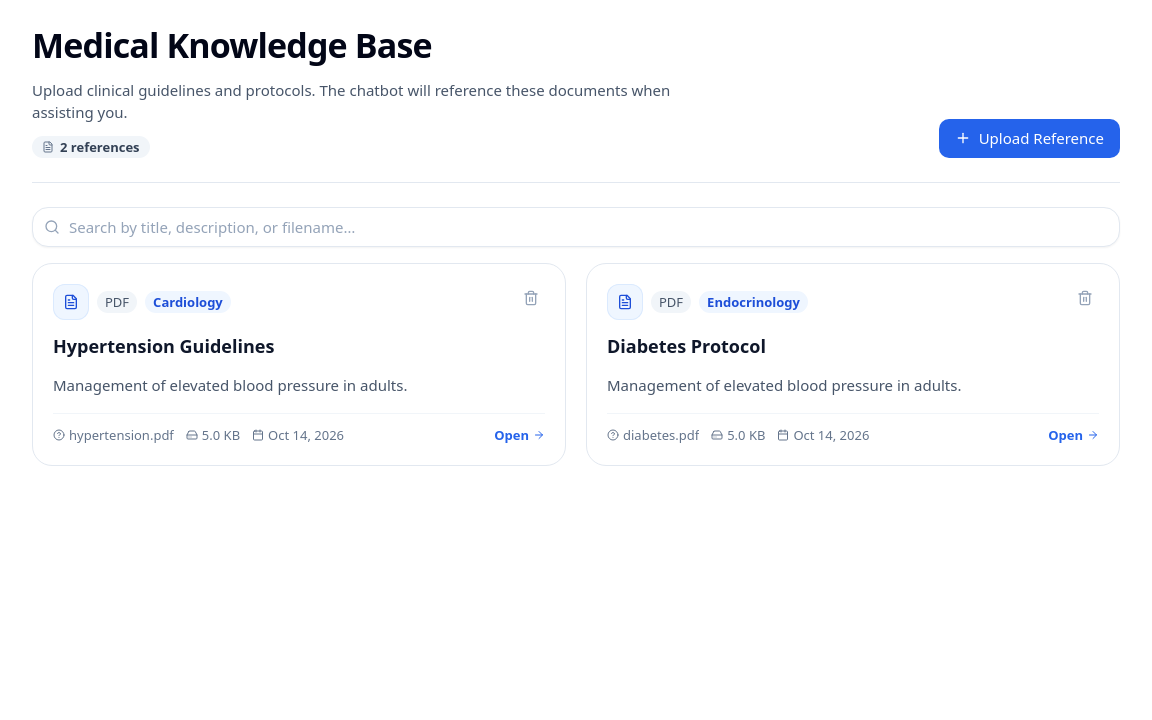
Scenario: KnowledgeBasePage › filters references by search and can clear the query
Expected: the heading "Hypertension Guidelines" is shown, [53,334,274,358]
Type "diabetes" into the search field.
click(576, 227); type("diabetes")  # box [32,207,1120,247]
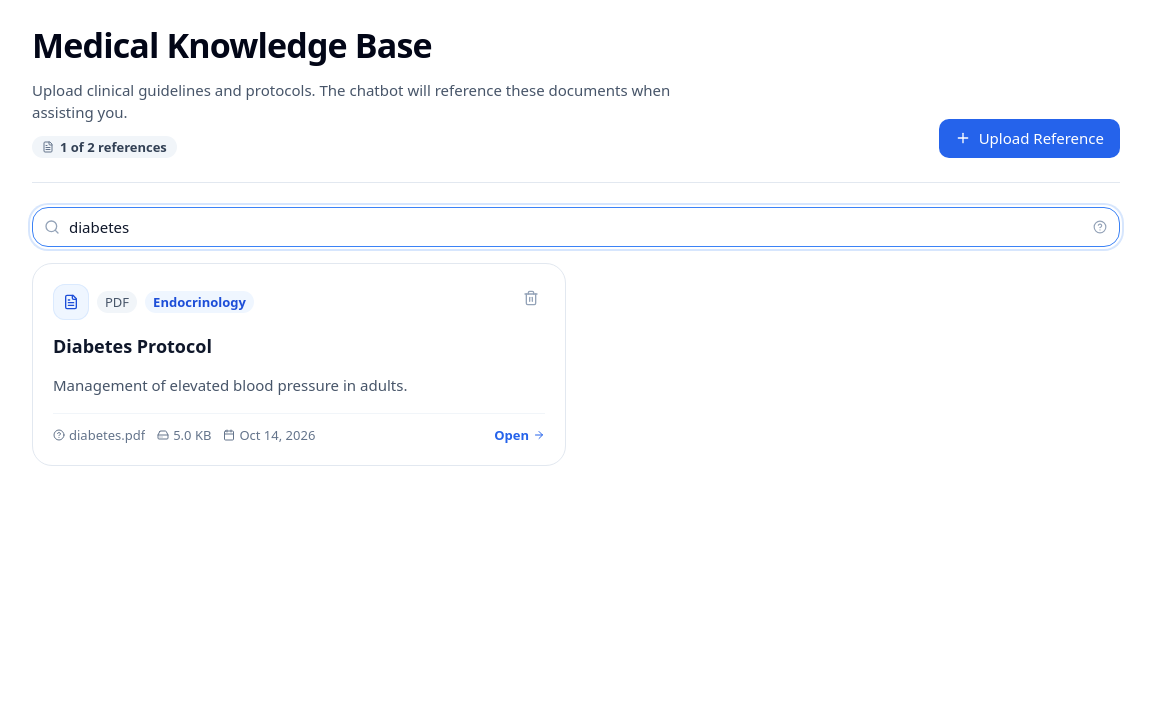
Expected: the heading "Diabetes Protocol" is shown, [53,334,212,358]
Expected: the text "1 of 2 references" is shown, [32,136,177,158]
Expected: the button "Hypertension Guidelines" is gone
Replace the text in the search field with "oncology" at (576, 227), box [32,207,1120,247]
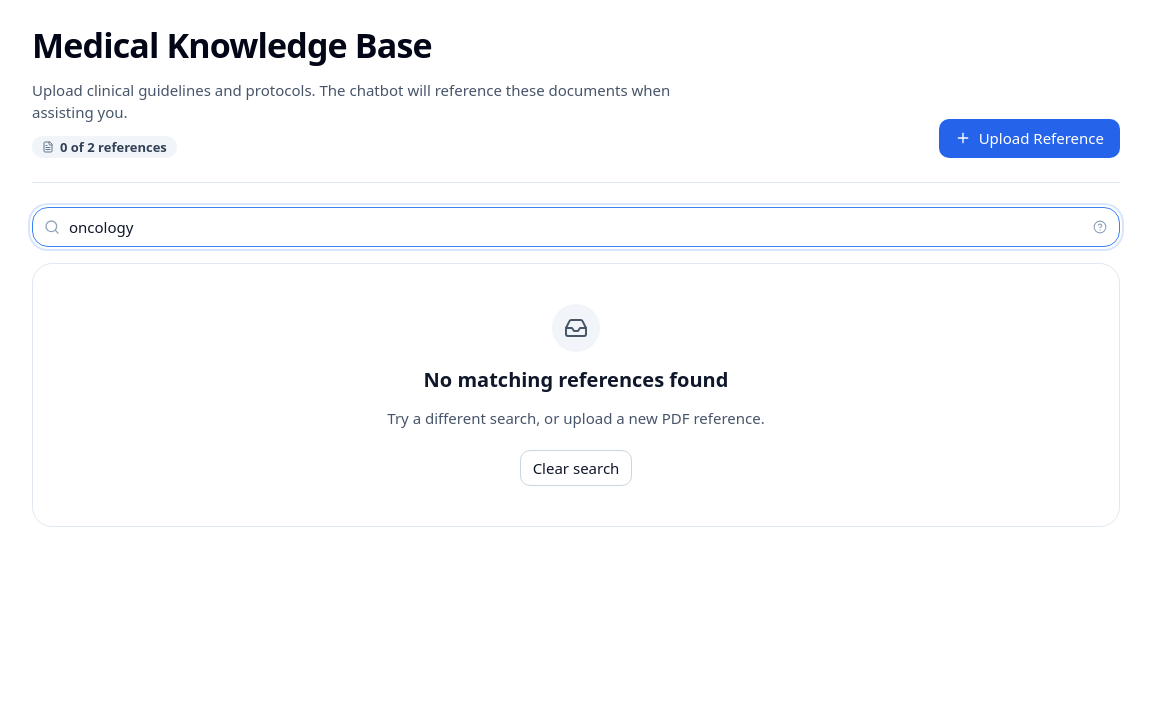
Expected: the heading "No matching references found" is shown, [424,364,728,395]
Expected: the text "0 of 2 references" is shown, [32,136,177,158]
Click the button named "Clear search".
click(1100, 227)  # box [1088,215,1112,239]
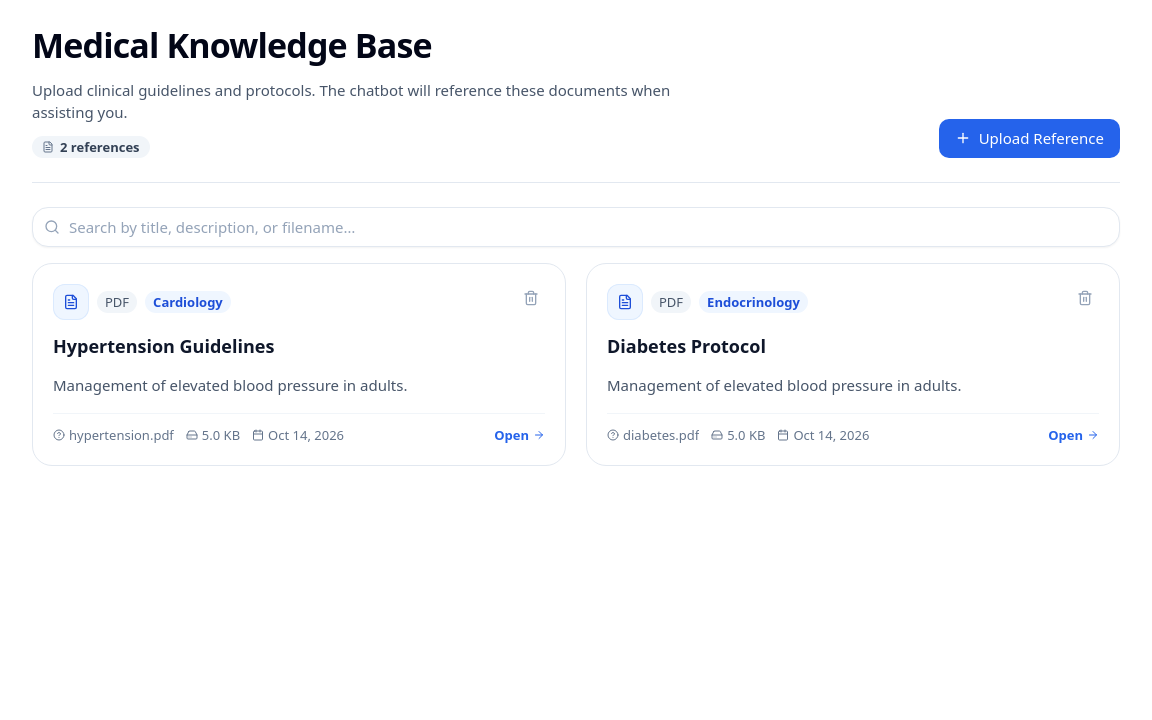
Expected: the text "2 references" is shown, [32,136,150,158]
Expected: the heading "Hypertension Guidelines" is shown, [53,334,274,358]
Expected: the heading "Diabetes Protocol" is shown, [607,334,766,358]
